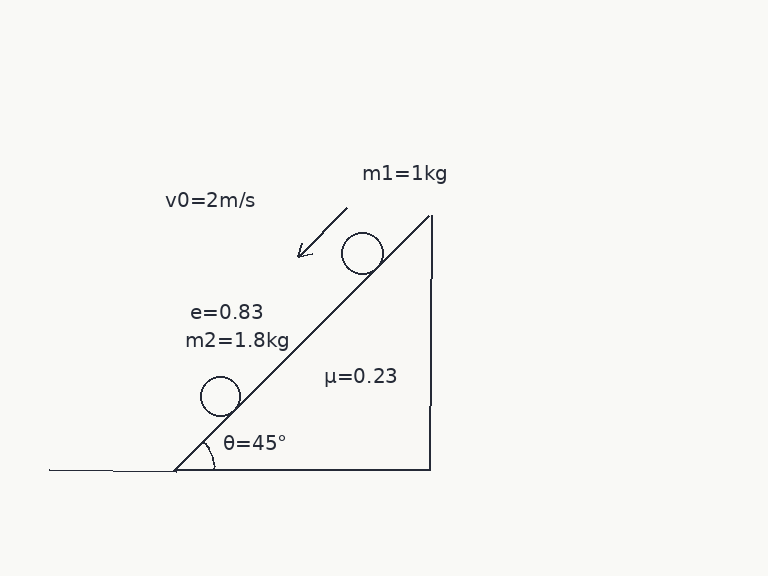ball: (339, 230, 385, 276), (198, 374, 242, 418)
ramp: (173, 213, 432, 472)
